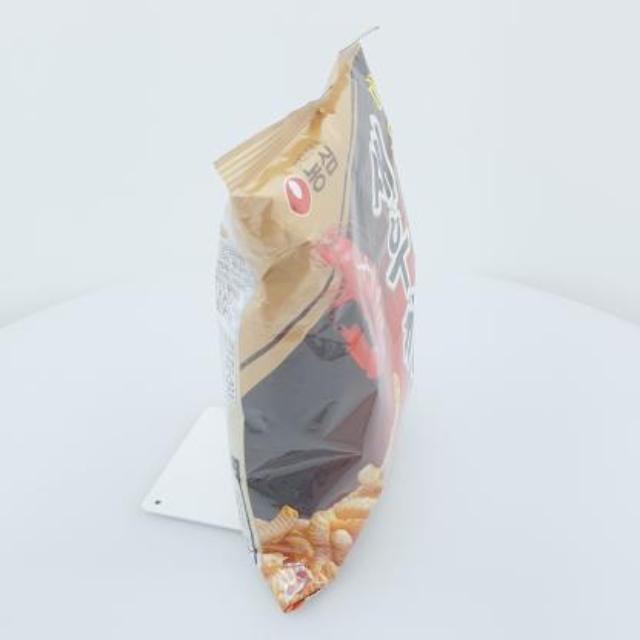snack_bag: (202, 19, 436, 619)
